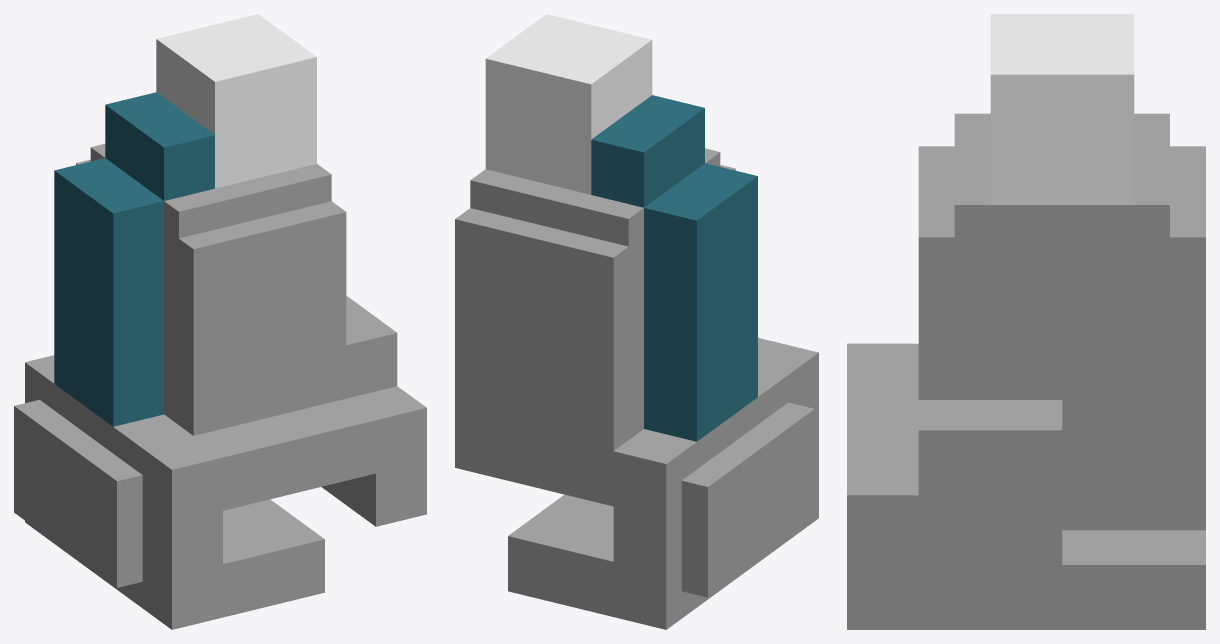
The model's file is PlayerOrange-7-Player_RHand.obj.
3 renders of one model, left to right at view 1: azimuth 30°, elevation 25°; view 2: azimuth 150°, elevation 25°; view 3: azimuth 270°, elevation 25°, orthographic. The views are drawn at different scales.
Parts seen in each view (by area): view 1: Player_RHand; view 2: Player_RHand; view 3: Player_RHand.
Boxes of the visible parts, x1,y1,x2,y2 form: Player_RHand: (14, 14, 426, 629); Player_RHand: (455, 14, 818, 629); Player_RHand: (847, 14, 1205, 629).
Bounding box in the file's own units: 1.1 × 1.8 × 1.
Materials: 1 (1 with a texture image).
